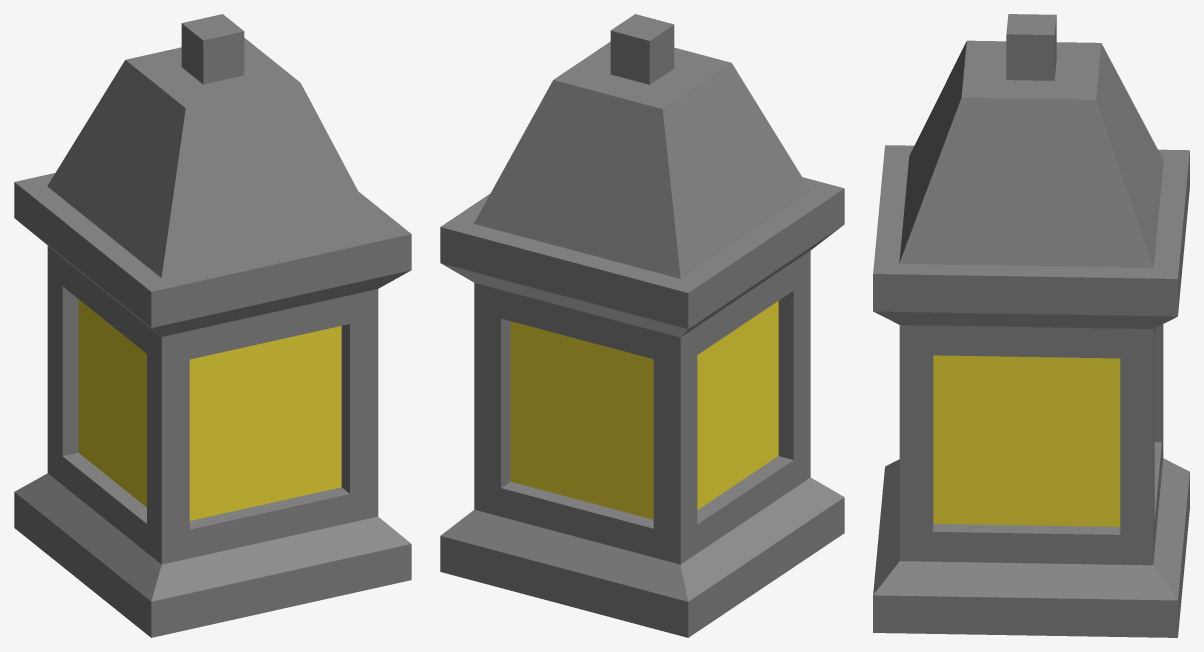
The model's file is Lantern.glb.
3 views of the same model, side by side, from view 1: azimuth 30°, elevation 25°; view 2: azimuth 150°, elevation 25°; view 3: azimuth 270°, elevation 25° (orthographic). The views are drawn at different scales.
Parts seen in each view (by area): view 1: Lantern; view 2: Lantern; view 3: Lantern.
Part boxes in pixels (x1,y1,x2,y2): Lantern: (14, 14, 411, 637); Lantern: (440, 14, 844, 637); Lantern: (873, 14, 1189, 637).
Bounding box in the file's own units: 0.837 × 1.59 × 0.837.
